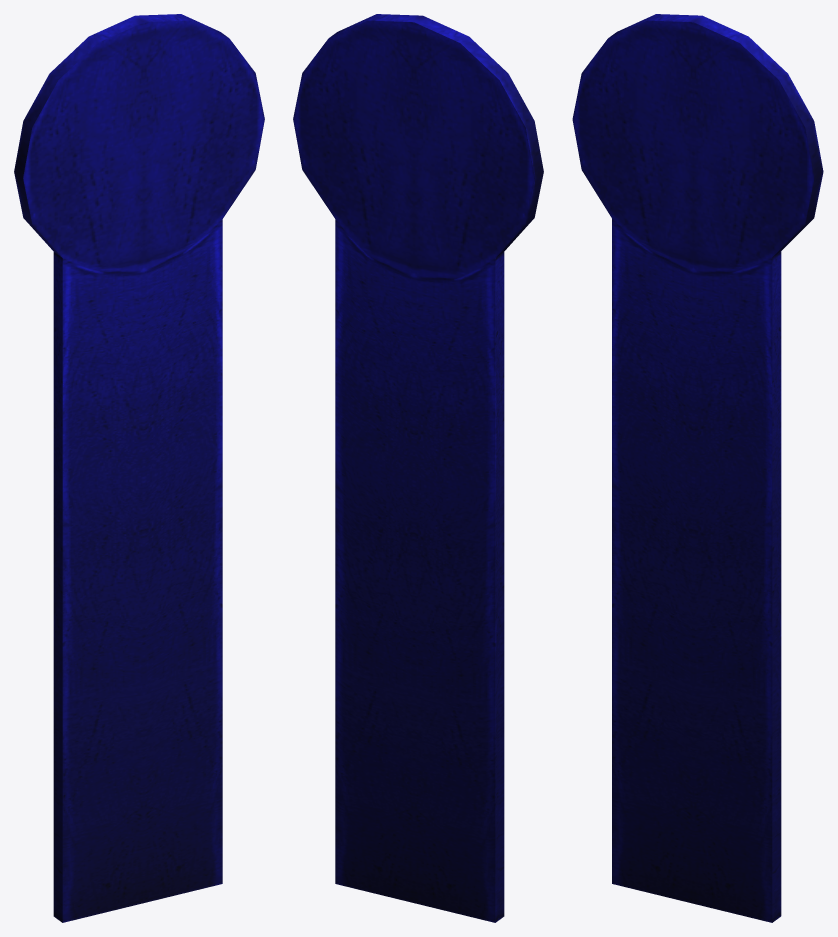
The picture shows the model from 3 angles, left to right: view 1: azimuth 30°, elevation 25°; view 2: azimuth 150°, elevation 25°; view 3: azimuth 330°, elevation 25°; orthographic projection.
Parts seen in each view (by area): view 1: Object42; view 2: Object42; view 3: Object42.
Boxes of the visible parts, x1,y1,x2,y2 form: Object42: (14, 14, 264, 922); Object42: (293, 14, 543, 922); Object42: (572, 14, 823, 922).
Size of the model in its own units: 7.94 by 0.5097 by 27.64.
